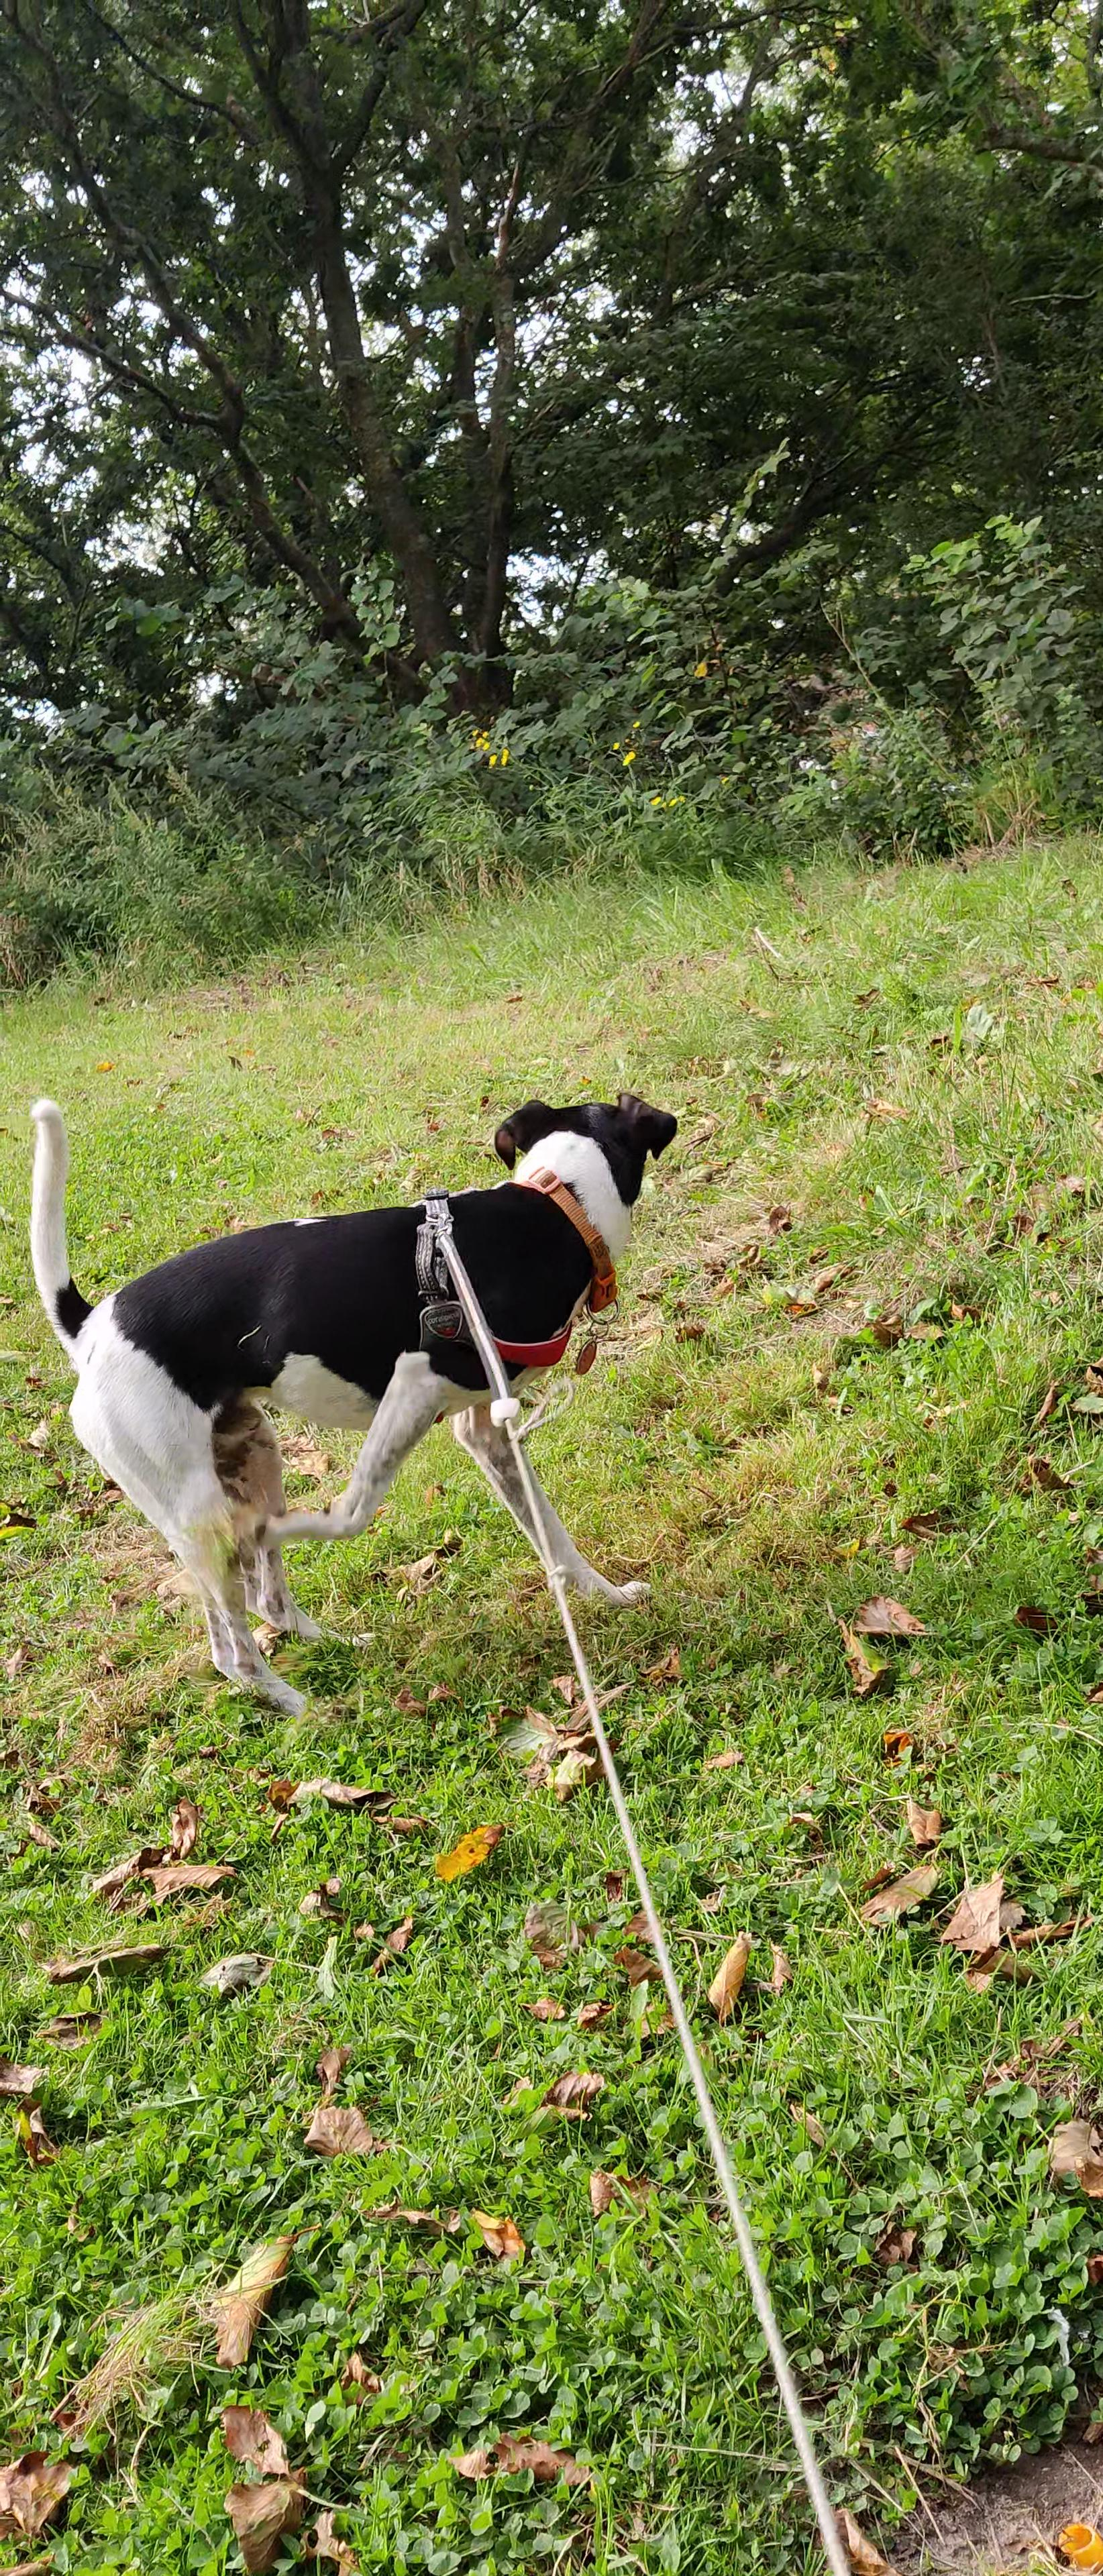Dog: (21, 1073, 692, 1709)
